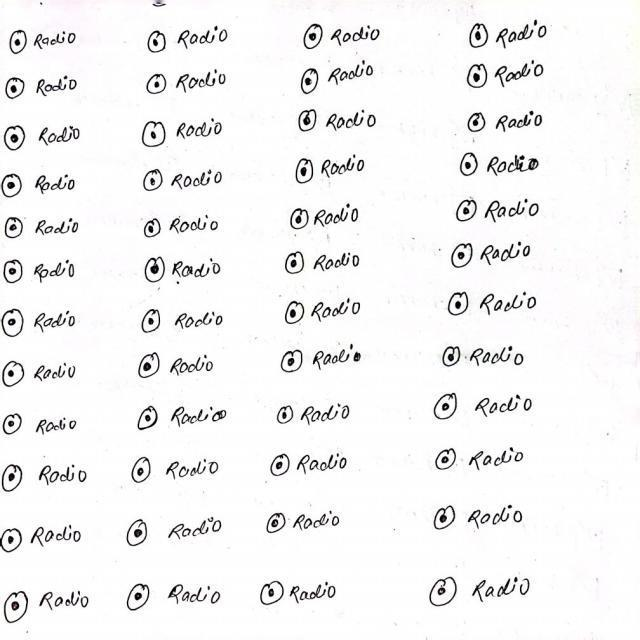radio: (427, 574, 463, 613), (125, 578, 153, 617), (257, 577, 289, 611), (3, 589, 31, 627), (301, 15, 327, 55), (1, 460, 29, 497), (433, 391, 462, 426), (139, 115, 168, 150), (1, 356, 29, 392), (430, 504, 461, 536), (464, 20, 494, 51), (134, 405, 163, 437), (453, 196, 480, 230), (2, 307, 27, 343), (142, 256, 170, 288), (1, 411, 29, 443), (450, 241, 477, 274), (283, 299, 310, 332), (132, 454, 157, 489), (135, 352, 164, 382), (291, 157, 319, 188), (298, 66, 325, 98), (445, 291, 473, 321), (141, 29, 172, 56), (466, 61, 492, 93), (1, 526, 27, 558), (3, 74, 29, 106), (433, 447, 461, 476), (3, 122, 29, 153), (8, 23, 31, 57), (125, 518, 151, 548), (280, 347, 306, 376), (3, 214, 28, 244), (142, 165, 164, 199), (283, 251, 310, 278), (287, 206, 314, 233), (144, 68, 170, 96), (299, 107, 321, 140), (138, 309, 164, 336), (267, 510, 291, 539), (1, 170, 25, 199), (458, 151, 480, 182), (466, 109, 490, 137), (441, 343, 464, 372), (272, 452, 294, 481), (3, 259, 25, 288), (143, 216, 165, 244), (278, 402, 298, 431)
